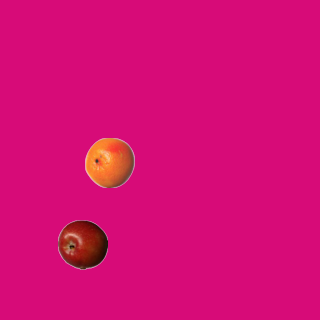Apple Braeburn: (57, 219, 107, 269)
Grapefruit Pink: (84, 137, 134, 187)
